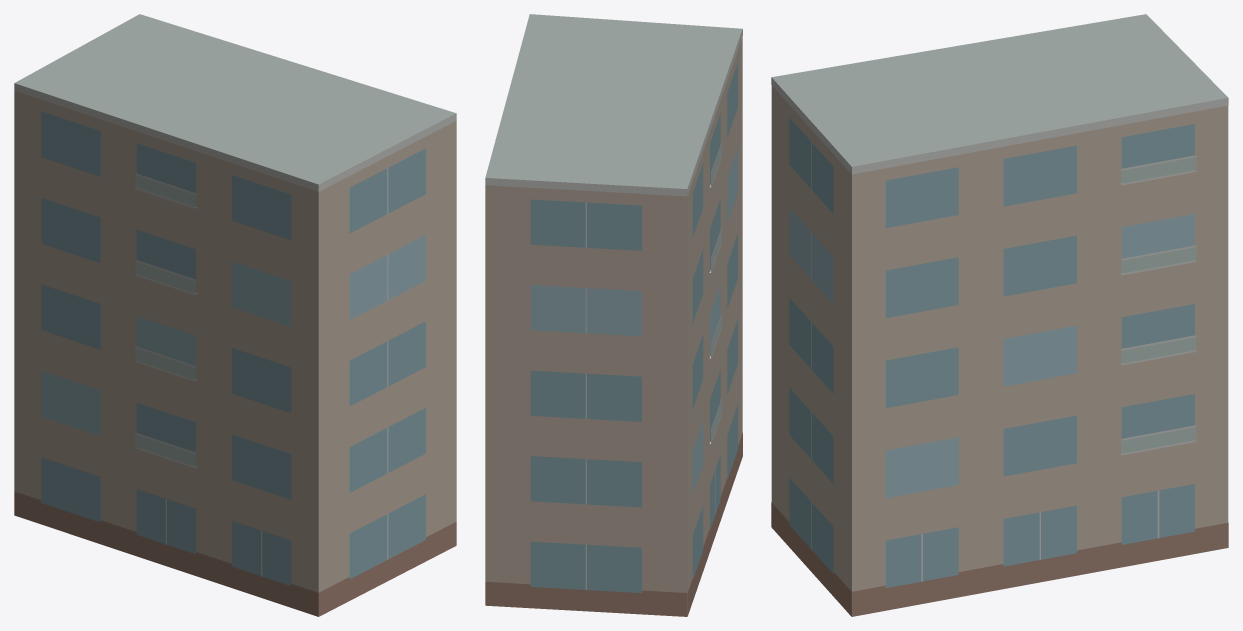
The model's file is survey-upis-32730016.glb.
3 renders of one model, left to right at view 1: azimuth 30°, elevation 25°; view 2: azimuth 150°, elevation 25°; view 3: azimuth 270°, elevation 25°, orthographic. The views are drawn at different scales.
Visible parts, largest first — view 1: survey-upis-32730016.tmp; view 2: survey-upis-32730016.tmp; view 3: survey-upis-32730016.tmp.
Part boxes in pixels (box(x1,y1,x2,y2)): survey-upis-32730016.tmp: box(14, 14, 456, 616); survey-upis-32730016.tmp: box(485, 14, 742, 616); survey-upis-32730016.tmp: box(771, 14, 1228, 616).
Size of the model in its own units: 10.46 by 14.35 by 13.22.
